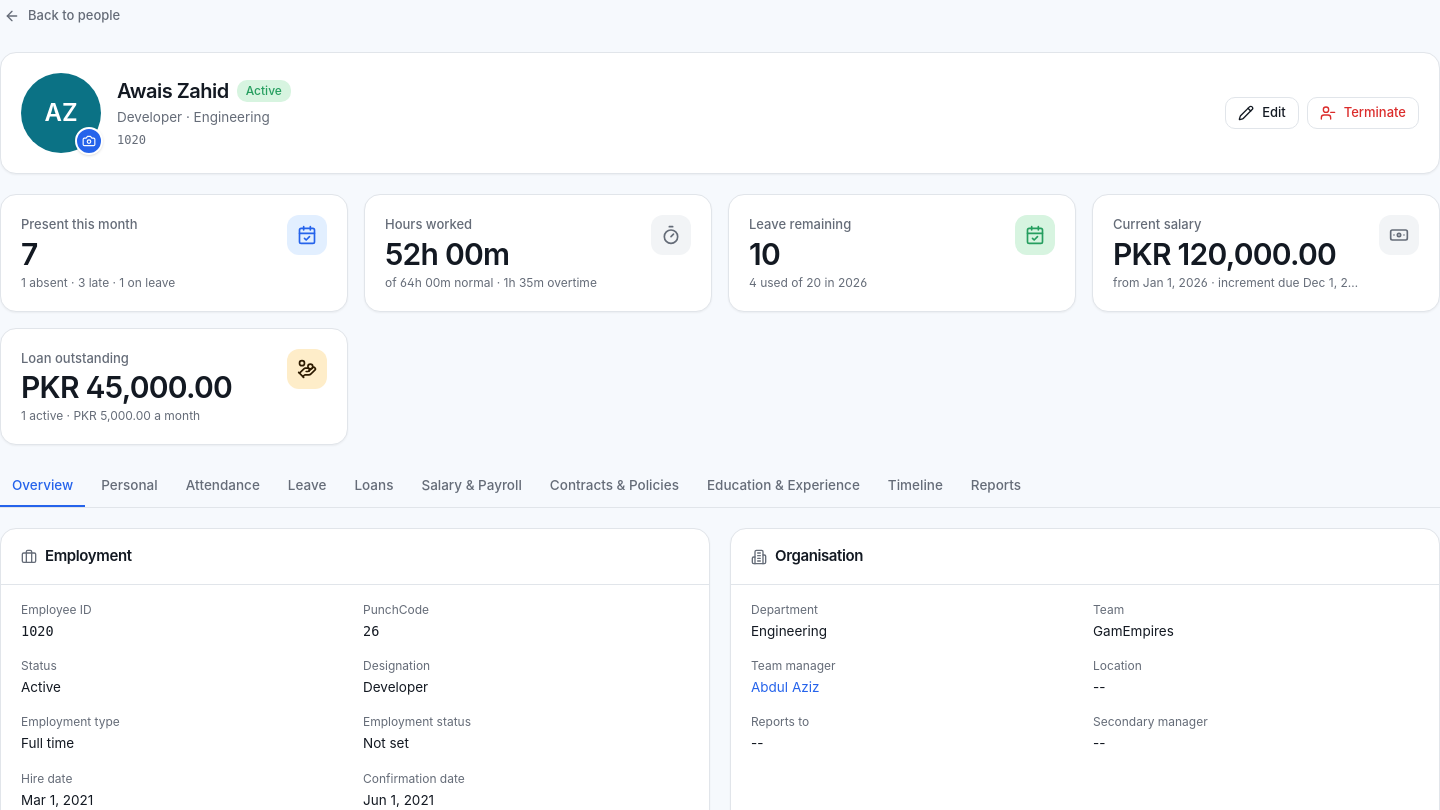
Test case: Employee 360 profile › says a timeline with nothing in it is empty, rather than showing a blank card
Expected: the heading "Awais Zahid" is shown, [117,77,229,105]
Step 1. Click the button "Timeline" → (915, 486), box [876,465,955,507]
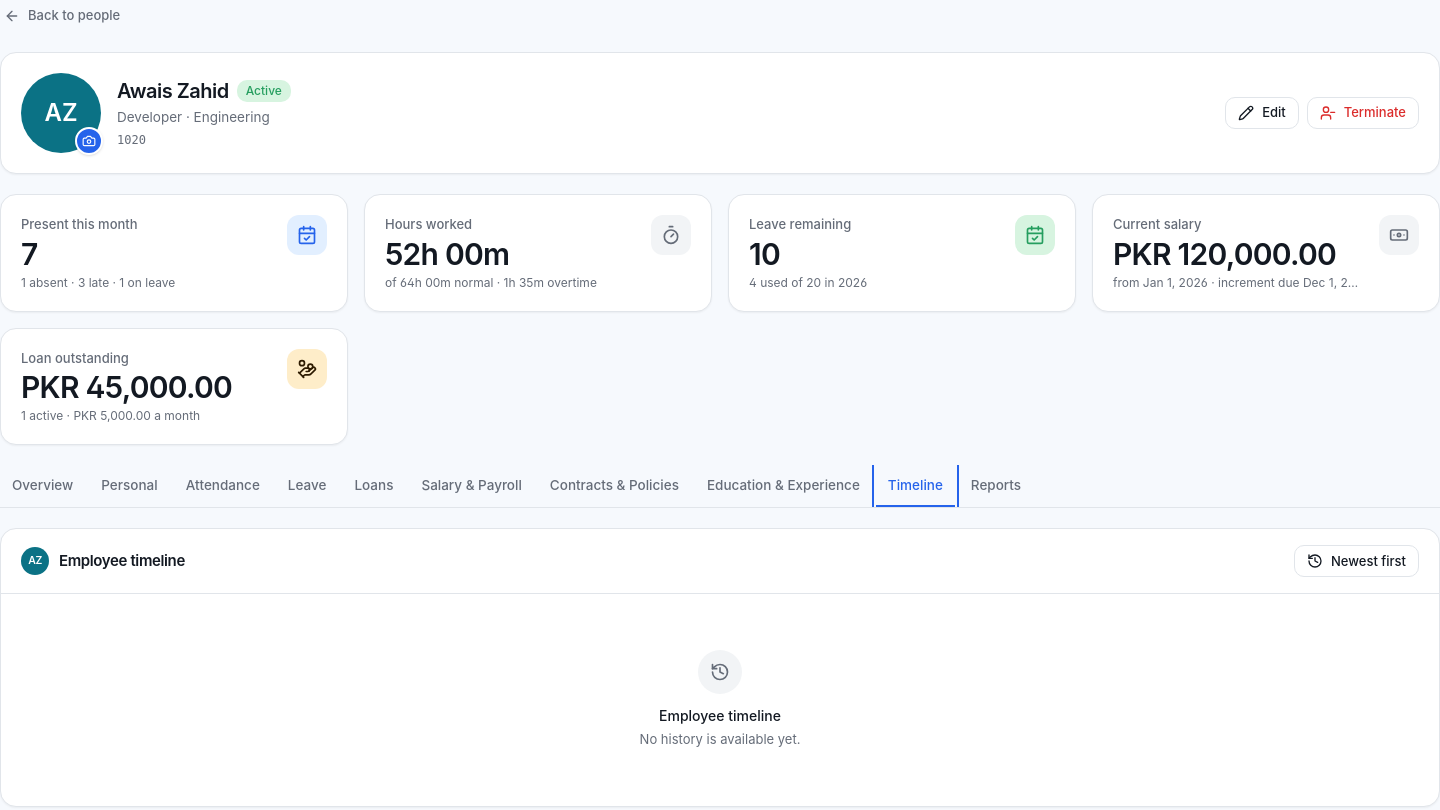
Result: the text "No history is available yet." is shown at [640,730,800,750]
